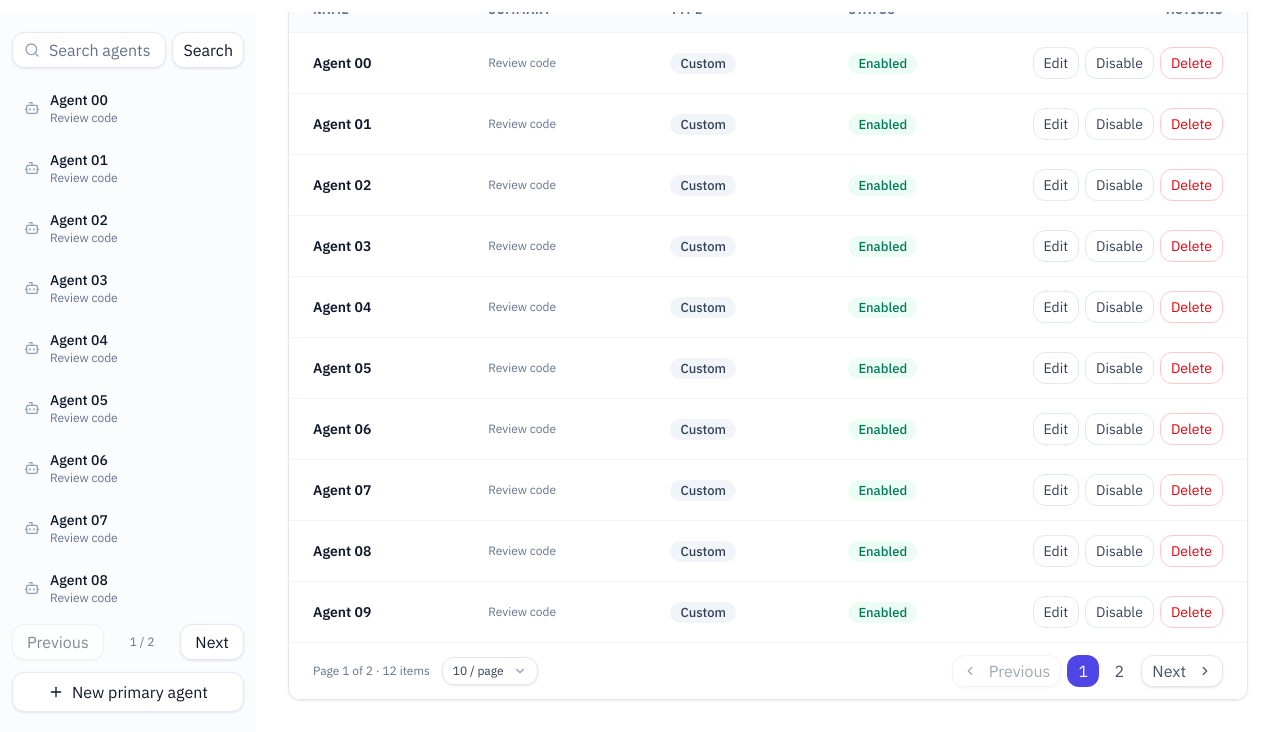
Test case: agent management split view › requests the next overview page without fetching the complete catalogs
The width and height of the screenshot is (1280, 732).
(page scrolled)
Expected: the row "Agent 00 Review code Custom Enabled Edit Disable Delete" is shown, [289,32,1247,94]
Expected: the row "Agent 10" is not shown
Click the button "Next" in the row of "Page 1 of 2 · 12 items" at (1182, 671), box [1141,655,1223,687]
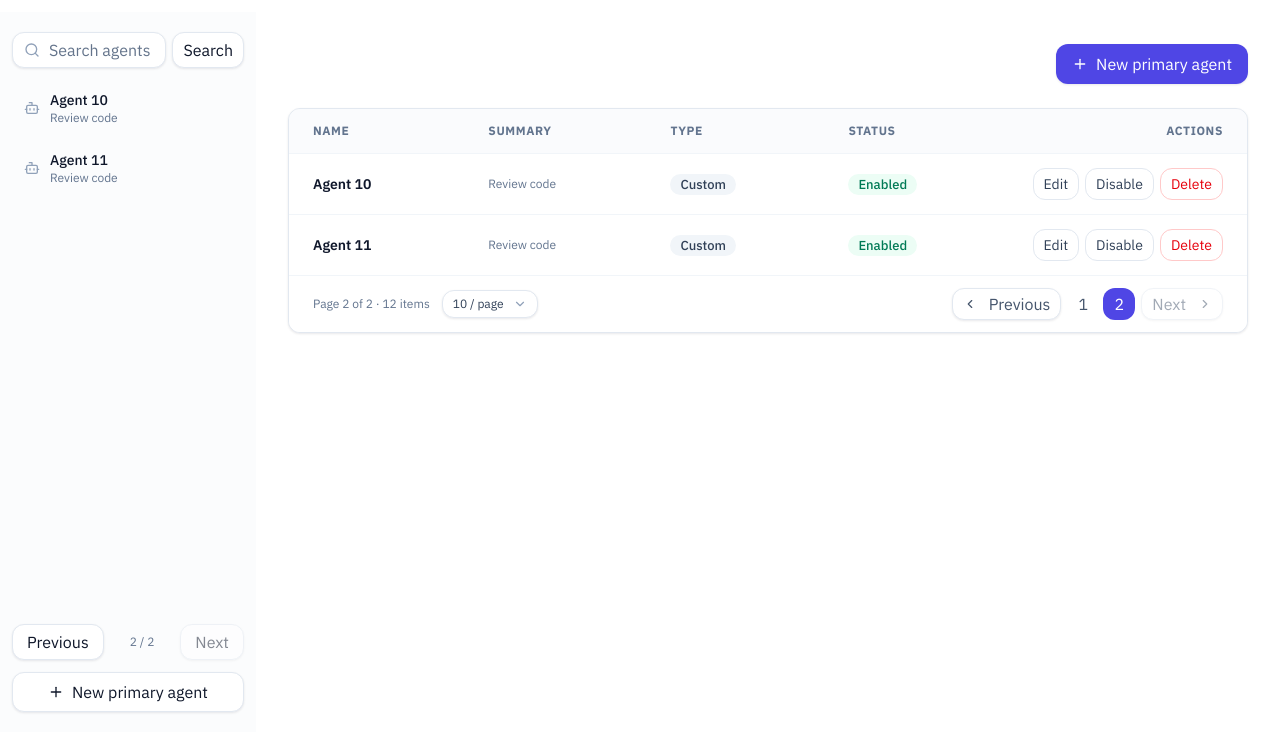
Expected: the row "Agent 10 Review code Custom Enabled Edit Disable Delete" is shown, [289,154,1247,214]
Expected: the button "Agent 00" is gone
